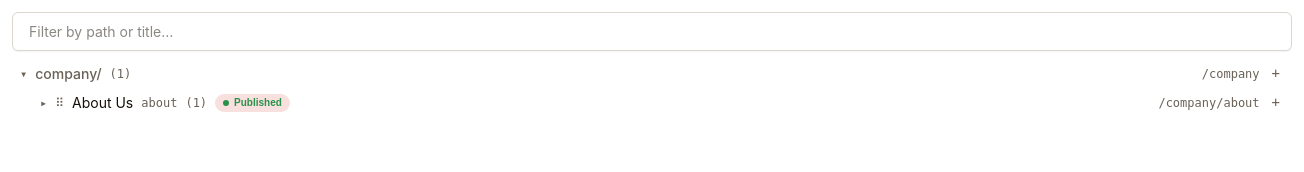
it: EntityDirectoryPanel › initially collapses below the top level, expanding on demand (#657)
Expected: the link "Our Team" is not shown
Click the button named "Expand" at (44, 102), box x1=40 y1=94 x2=47 y2=112
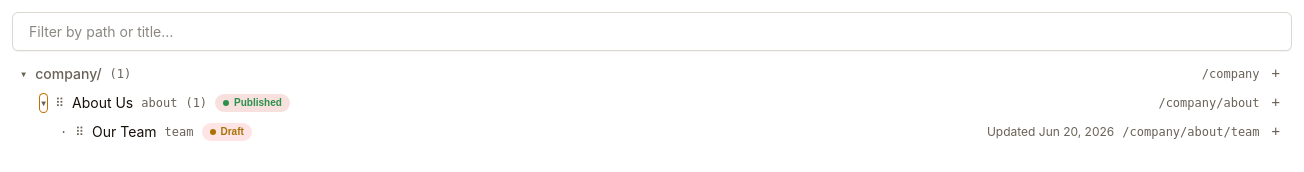
Result: the text "/company/about/team" is shown at x1=1122 y1=122 x2=1260 y2=140
